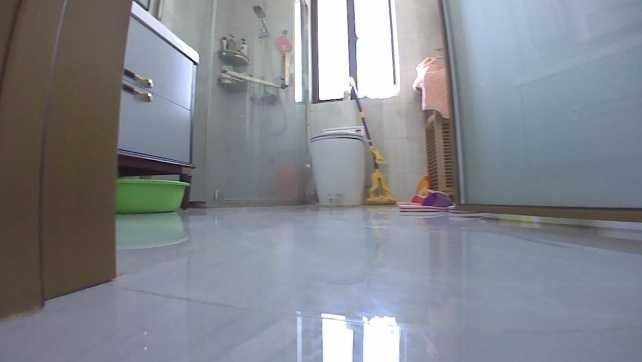door_anno: (435, 0, 641, 221)
slipper: (396, 188, 453, 212)
toilet: (308, 122, 367, 209)
